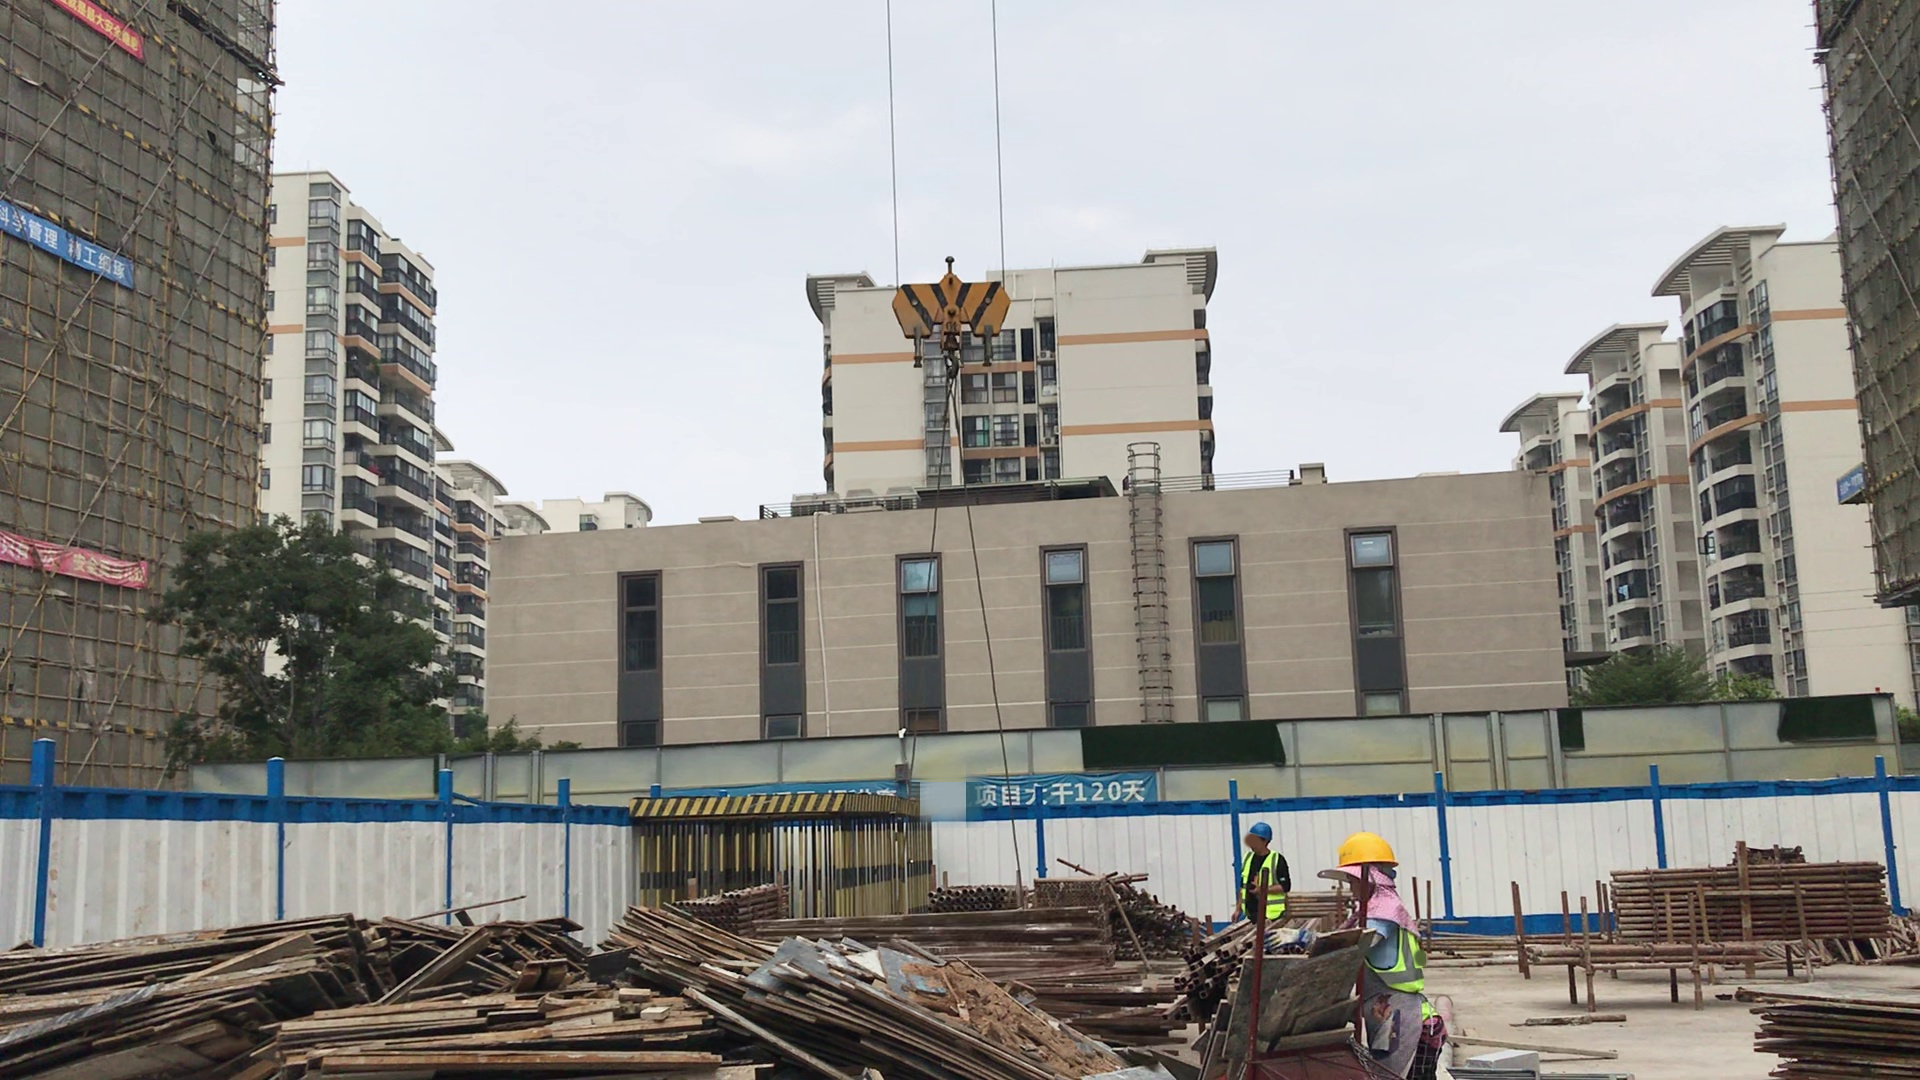board: (735, 953, 1144, 1080), (249, 972, 747, 1072), (1, 909, 294, 1077)
helmet: (1335, 831, 1397, 870), (1242, 821, 1280, 845)
hook: (887, 244, 1032, 386)
person: (1331, 825, 1458, 1080), (1237, 814, 1293, 934)
scaffold: (1603, 860, 1897, 956), (1121, 882, 1213, 972), (927, 868, 1032, 921), (681, 882, 774, 942)
slogan: (1, 171, 156, 303), (953, 746, 1154, 820), (1, 530, 172, 603), (74, 1, 166, 113)
vest: (1351, 896, 1452, 1060), (1230, 853, 1286, 922)
